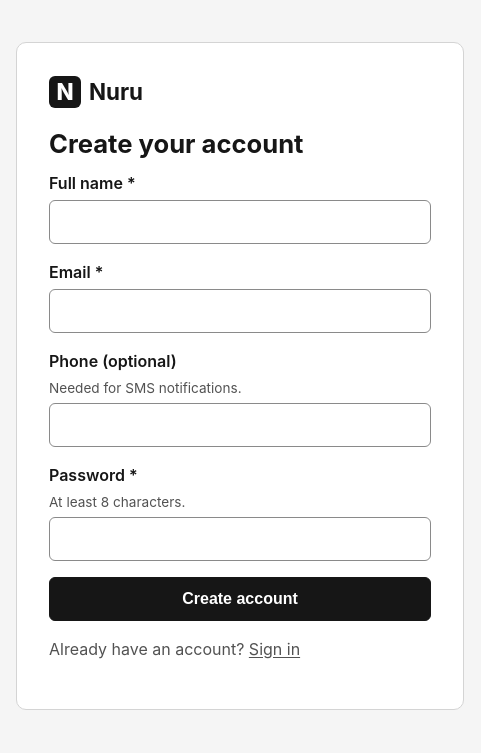
it: Register › requires a name and a sufficiently long password
Type "new@example.org" into the field labelled "Email *".
click(240, 311); type("new@example.org")  # box [49,289,431,333]
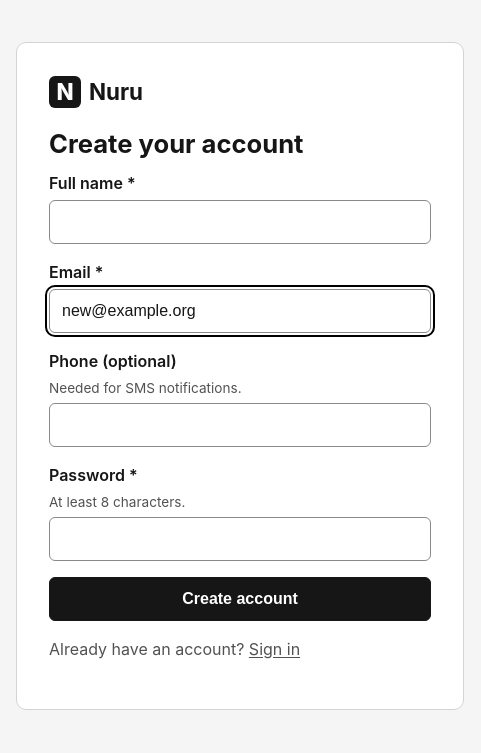
Type "short" into the password field labelled "Password *".
click(240, 539); type("short")  # box [49,517,431,561]
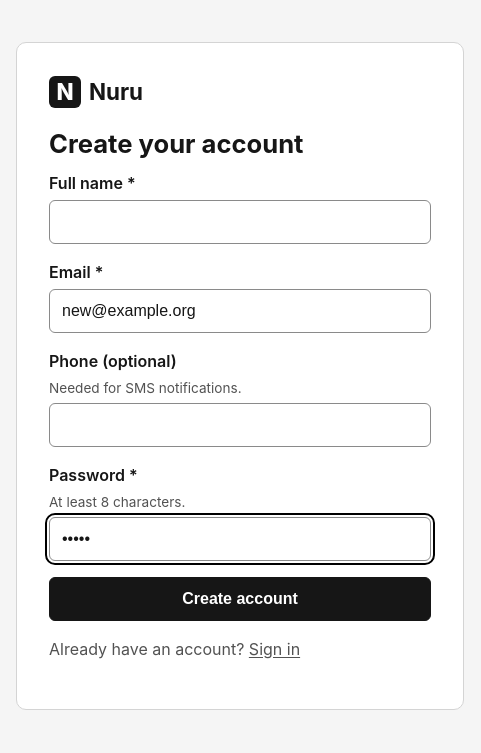
Click the button "Create account".
click(240, 599)  # box [49,577,431,621]
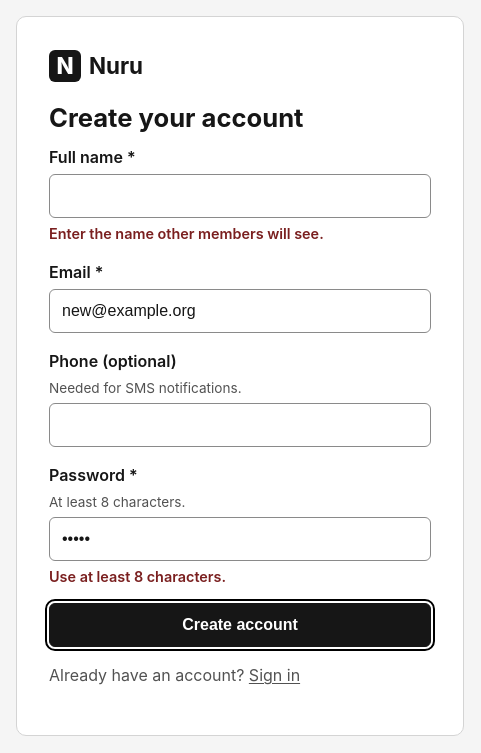
Expected: the text "Enter the name other members will see." is shown, [49,225,324,242]
Expected: the text "Use at least 8 characters." is shown, [49,568,226,585]
